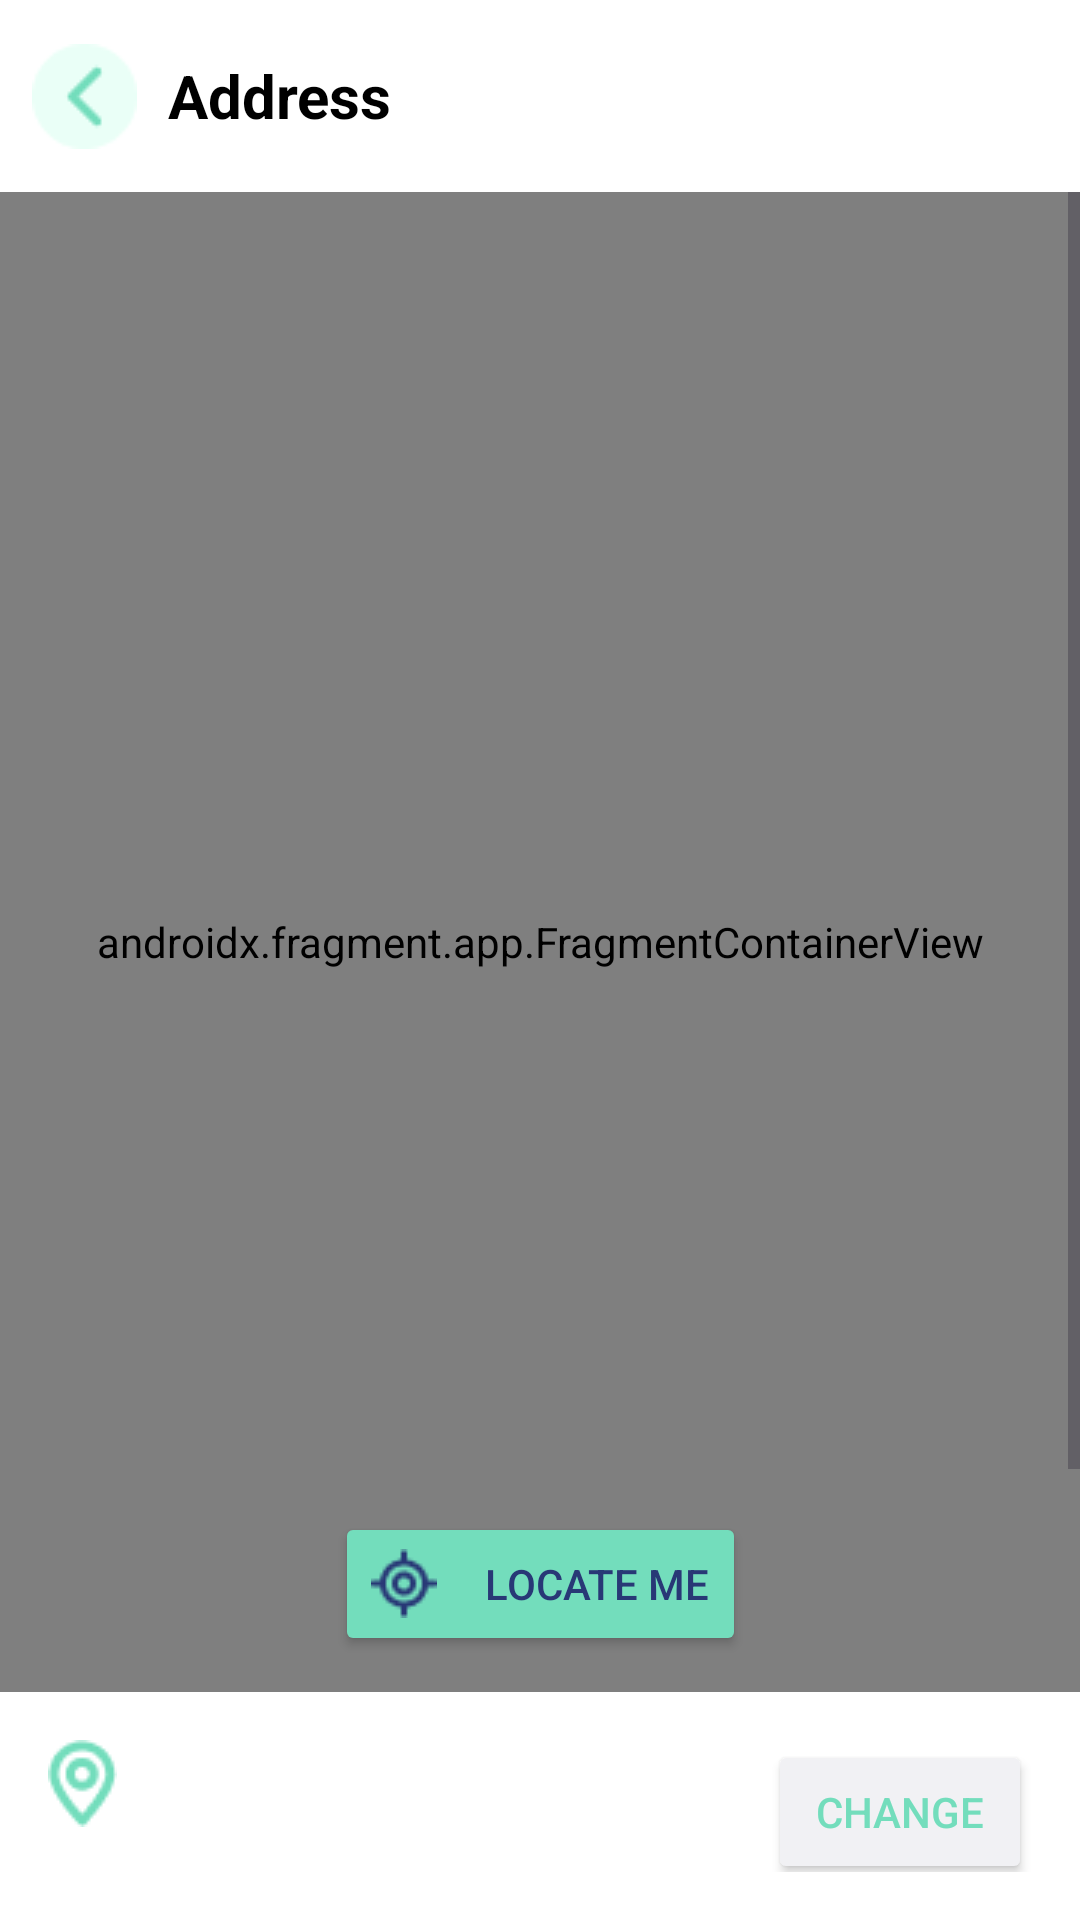

Screen size 1080px x 1920px. Icon name, then its center in pixels as (x=x, y=y):
address: (x=82, y=1783)
